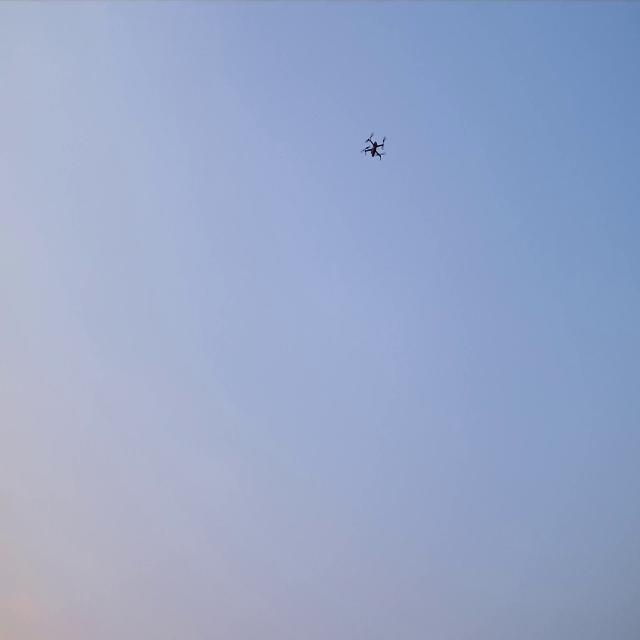UAV: (359, 130, 386, 160)
